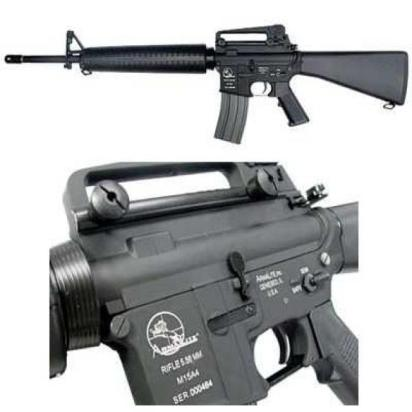Gun: (48, 166, 356, 412), (5, 20, 407, 161)
